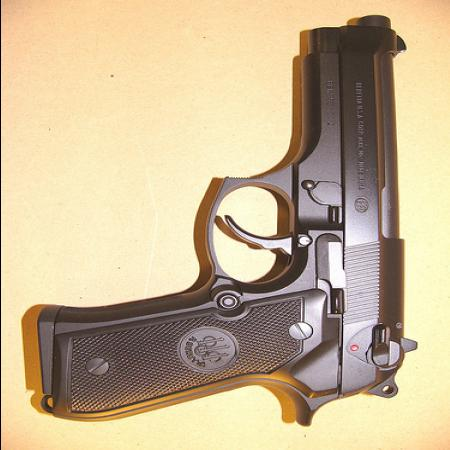Pistol: (39, 13, 418, 425)
